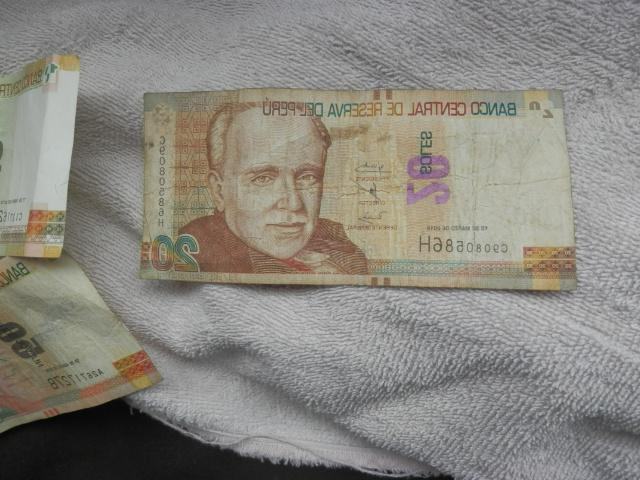B20: (139, 89, 575, 290)
